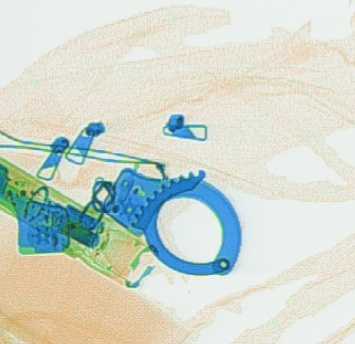handcuffs: (0, 161, 243, 277)
